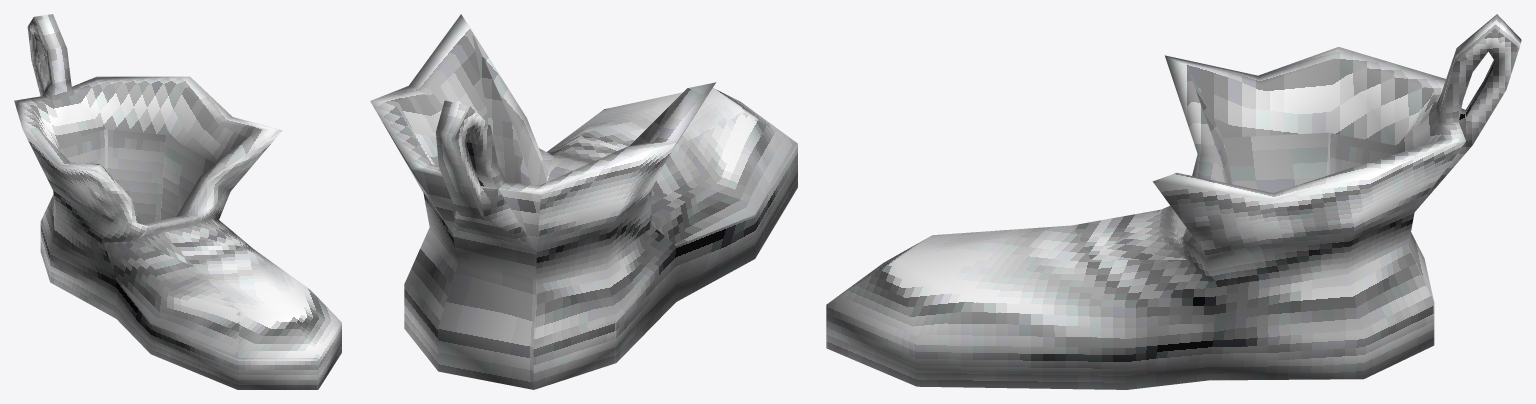
Rendered from 3D_Shoe_anm_Tpose.obj.
3 views of the same model, side by side, from view 1: azimuth 30°, elevation 25°; view 2: azimuth 150°, elevation 25°; view 3: azimuth 270°, elevation 25° (orthographic). The views are drawn at different scales.
Visible parts, largest first — view 1: 3D_Shoe_anm_Tpose; view 2: 3D_Shoe_anm_Tpose; view 3: 3D_Shoe_anm_Tpose.
Part boxes in pixels (<box>): 3D_Shoe_anm_Tpose: <box>14,14,341,389</box>; 3D_Shoe_anm_Tpose: <box>370,14,797,389</box>; 3D_Shoe_anm_Tpose: <box>826,14,1521,389</box>.
Size of the model in its own units: 2.28 by 2.38 by 4.98.
1 material, 1 textured.
